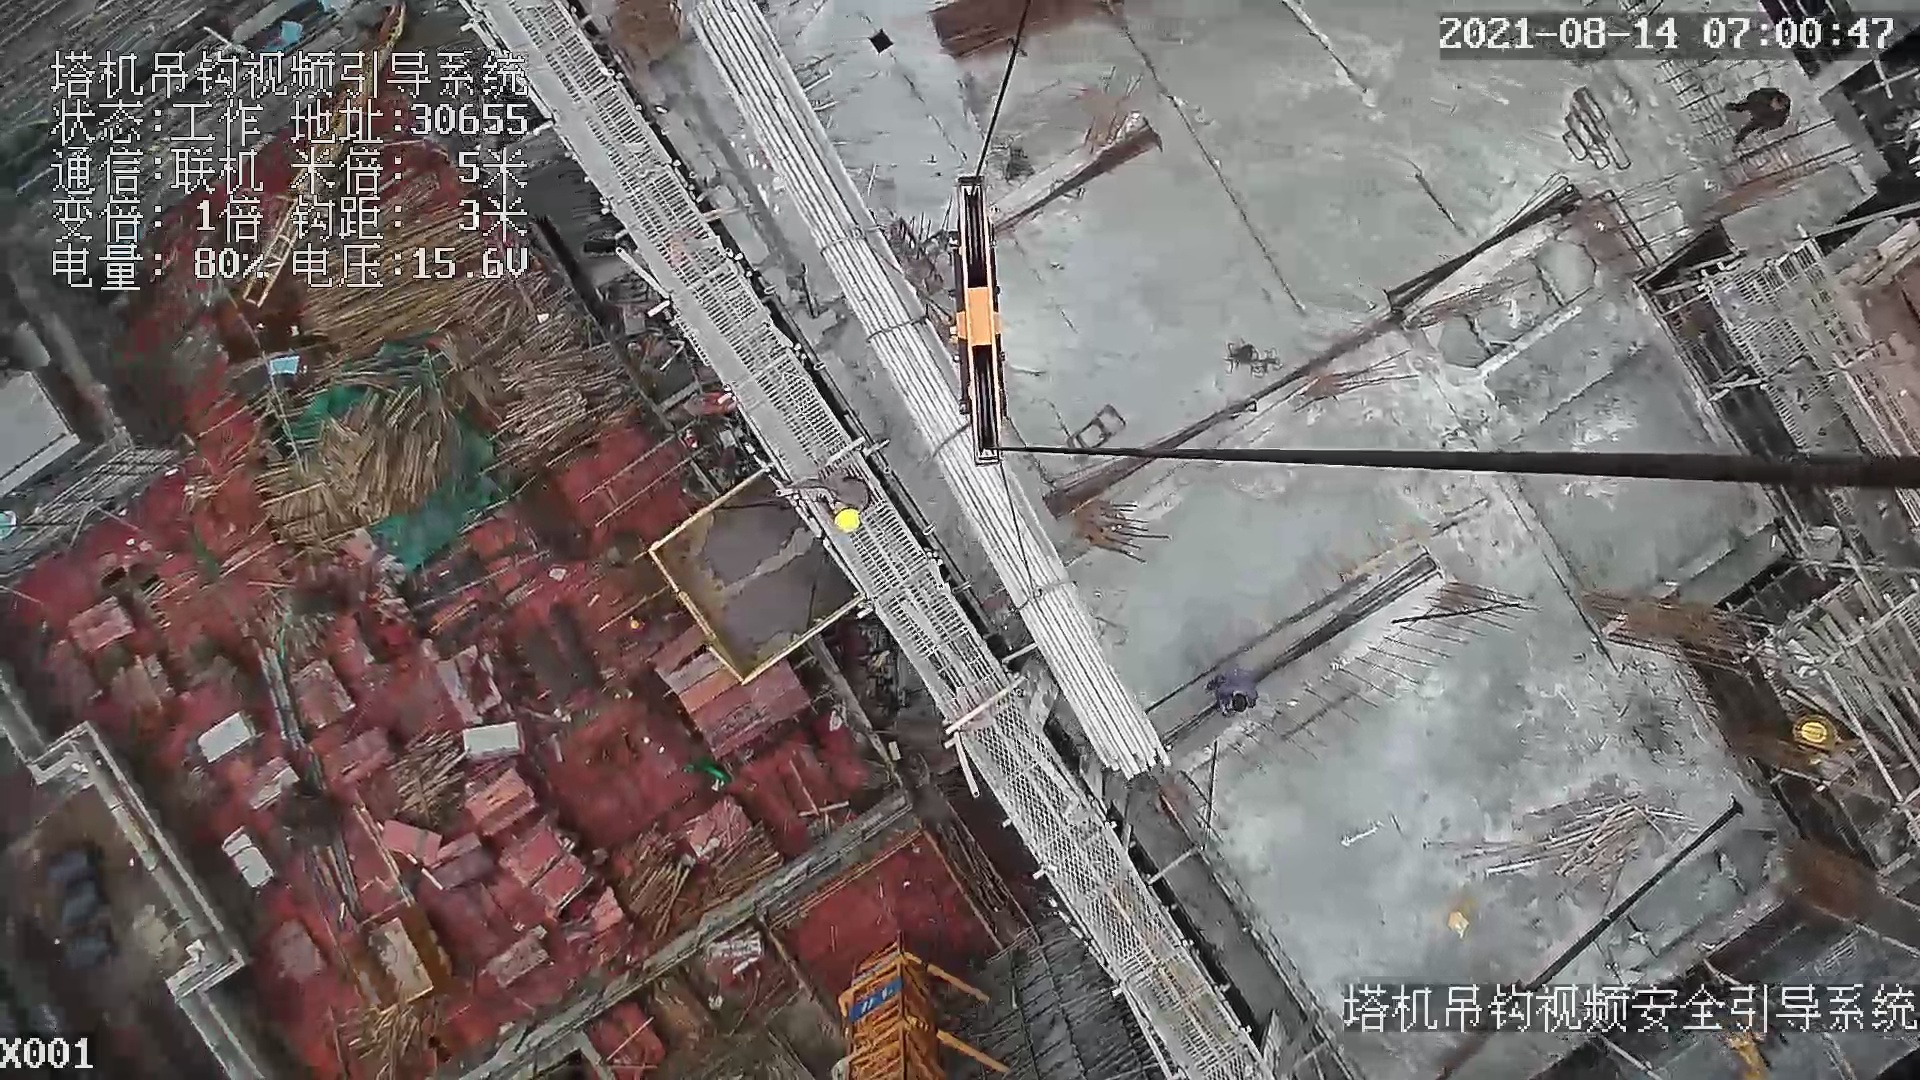helmet: (826, 499, 863, 537)
hook: (923, 165, 1019, 463)
person: (779, 469, 878, 539), (1206, 669, 1260, 727)
